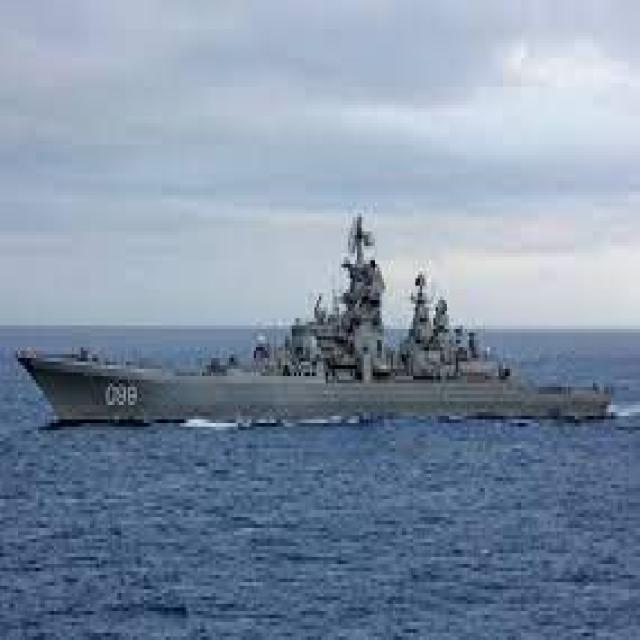navalvessels: (19, 219, 630, 456)
